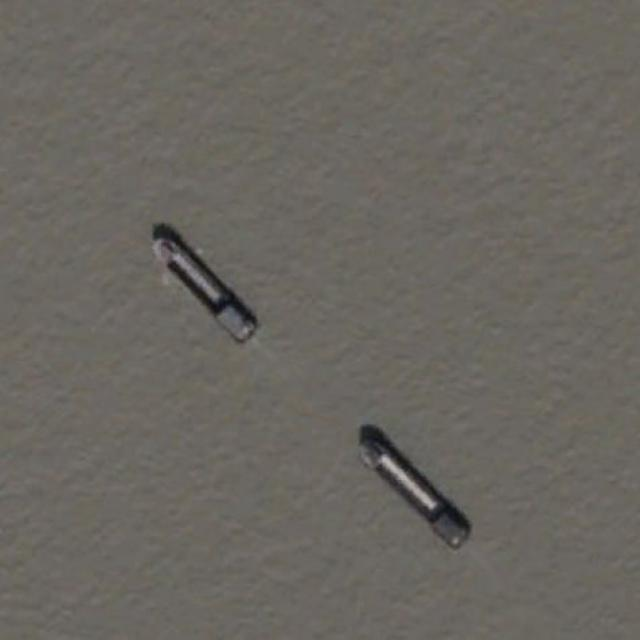boat: (356, 426, 472, 548), (147, 224, 258, 344)
